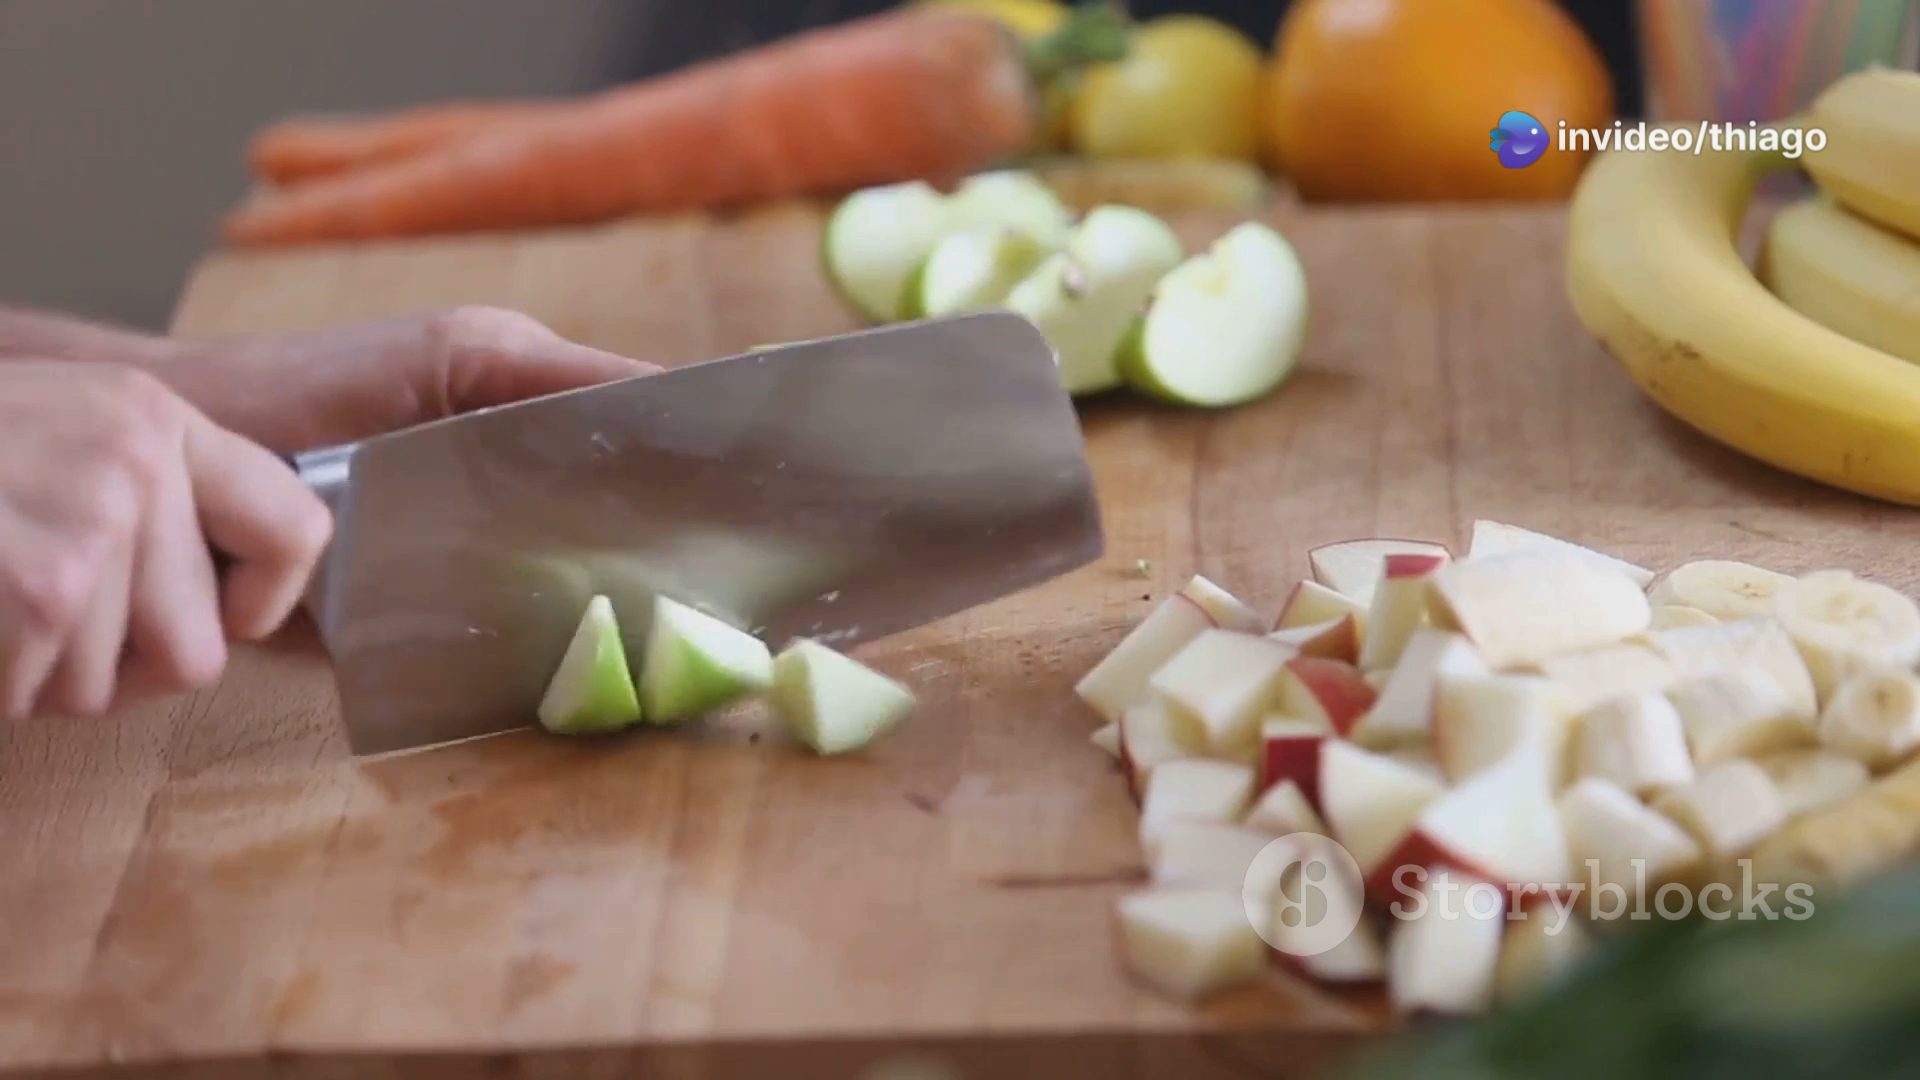cortante: (280, 311, 1105, 754)
